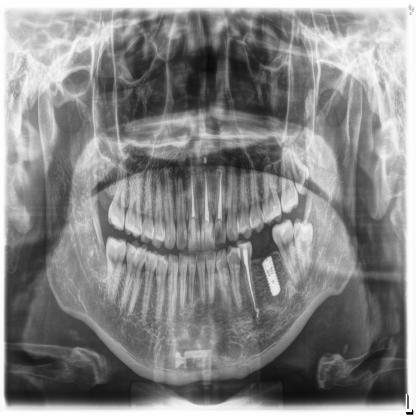ITI: (261, 252, 286, 306)
